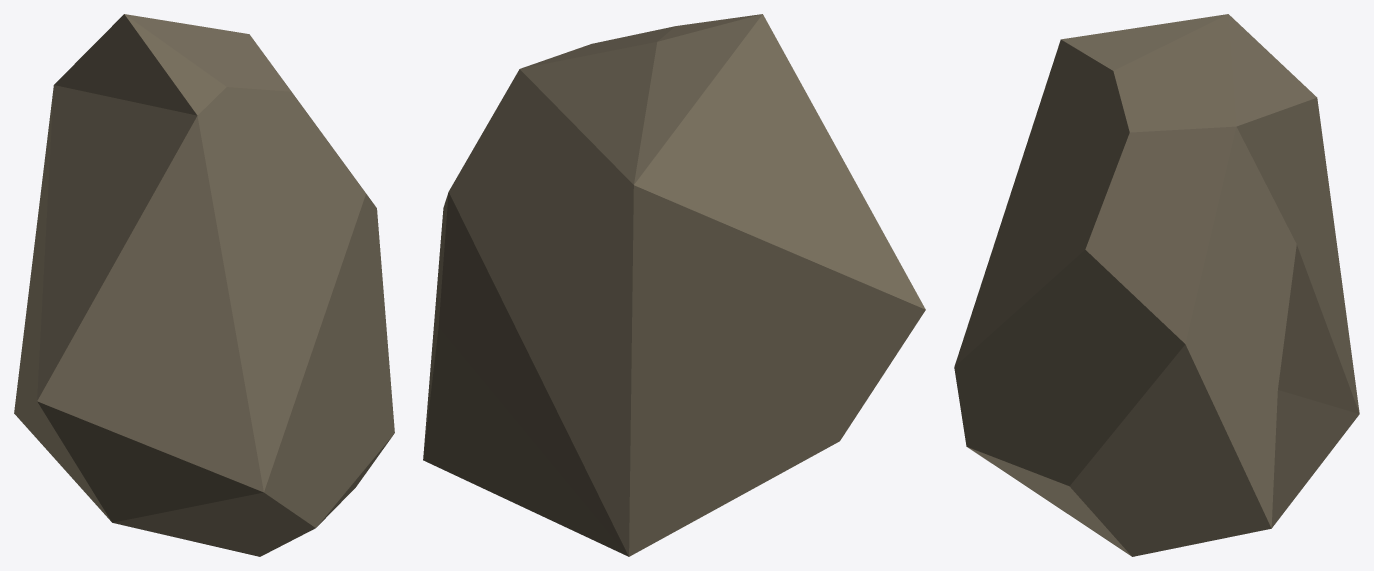
Rendered from Rock_4.fbx.
3 renders of one model, left to right at view 1: azimuth 30°, elevation 25°; view 2: azimuth 150°, elevation 25°; view 3: azimuth 270°, elevation 25°, orthographic. The views are drawn at different scales.
Visible parts, largest first — view 1: rock_3; view 2: rock_3; view 3: rock_3.
Part boxes in pixels (x1,y1,x2,y2): rock_3: [14, 14, 394, 556]; rock_3: [423, 14, 925, 556]; rock_3: [954, 14, 1359, 556].
Size of the model in its own units: 45.83 by 53.54 by 41.75.
